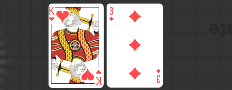3D: (156, 68, 162, 85)
KH: (95, 69, 103, 86)
